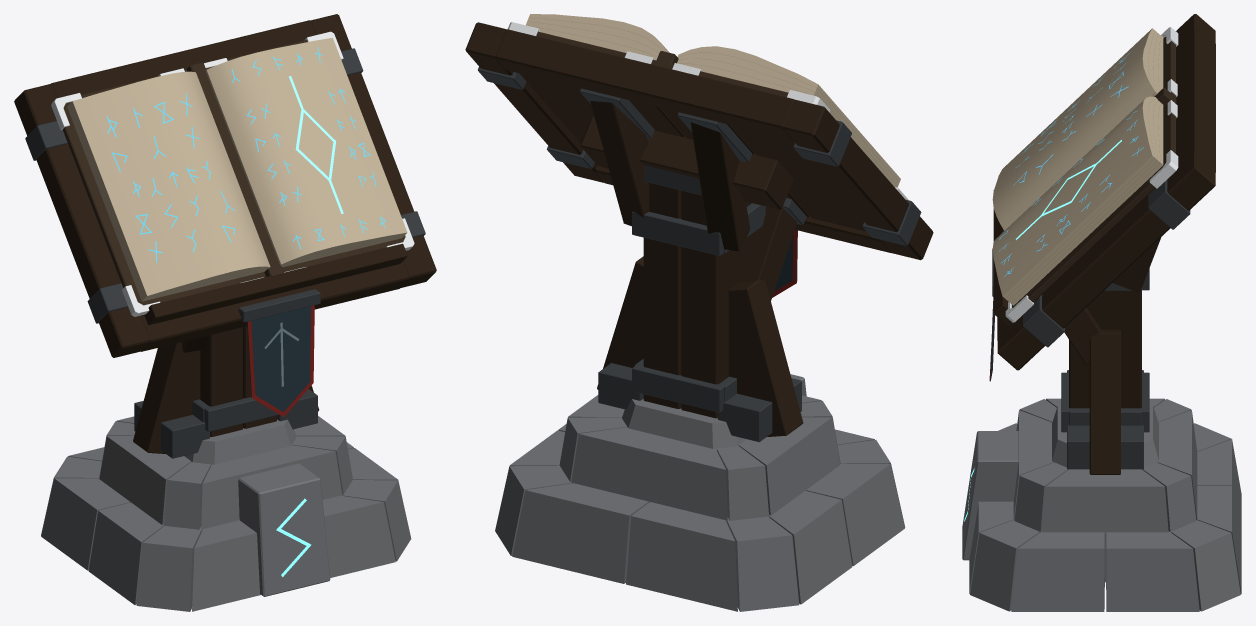
The model's file is RunicStorageTerminal.fbx.
The picture shows the model from 3 angles, left to right: view 1: azimuth 30°, elevation 25°; view 2: azimuth 150°, elevation 25°; view 3: azimuth 270°, elevation 25°; orthographic projection. The views are drawn at different scales.
Visible parts, largest first — view 1: RST_Parchment, RST_Stone, RST_Timber, RST_Iron, RST_Leather, RST_Cloth, RST_BookSmallRunes, RST_Silver, RST_Cloth_RedBorder, RST_BookMainRune; view 2: RST_Timber, RST_Stone, RST_Iron, RST_Parchment, RST_Leather, RST_Silver, RST_PageEdges; view 3: RST_Stone, RST_Timber, RST_Parchment, RST_Iron, RST_Leather, RST_Silver, RST_BookSmallRunes, RST_PageEdges, RST_BookMainRune.
Part boxes in pixels (x1,y1,x2,y2): RST_Parchment: [67, 38, 407, 301]; RST_Stone: [41, 416, 411, 611]; RST_Timber: [14, 14, 436, 453]; RST_Iron: [25, 48, 425, 458]; RST_Leather: [62, 40, 404, 305]; RST_Cloth: [247, 306, 311, 412]; RST_BookSmallRunes: [106, 47, 385, 262]; RST_Silver: [51, 31, 414, 316]; RST_Cloth_RedBorder: [247, 305, 314, 416]; RST_BookMainRune: [288, 76, 343, 213]; RST_Timber: [465, 22, 933, 436]; RST_Stone: [495, 374, 905, 611]; RST_Iron: [478, 66, 921, 442]; RST_Parchment: [526, 14, 900, 187]; RST_Leather: [536, 31, 788, 97]; RST_Silver: [508, 22, 908, 200]; RST_PageEdges: [526, 17, 899, 185]; RST_Stone: [962, 398, 1241, 611]; RST_Timber: [993, 14, 1215, 474]; RST_Parchment: [992, 28, 1163, 305]; RST_Iron: [992, 180, 1190, 469]; RST_Leather: [1012, 37, 1176, 307]; RST_Silver: [1005, 27, 1178, 322]; RST_BookSmallRunes: [998, 52, 1143, 276]; RST_PageEdges: [1005, 30, 1160, 302]; RST_BookMainRune: [1016, 140, 1121, 239].
Size of the model in its own units: 1.08 by 1.49 by 0.8205.
